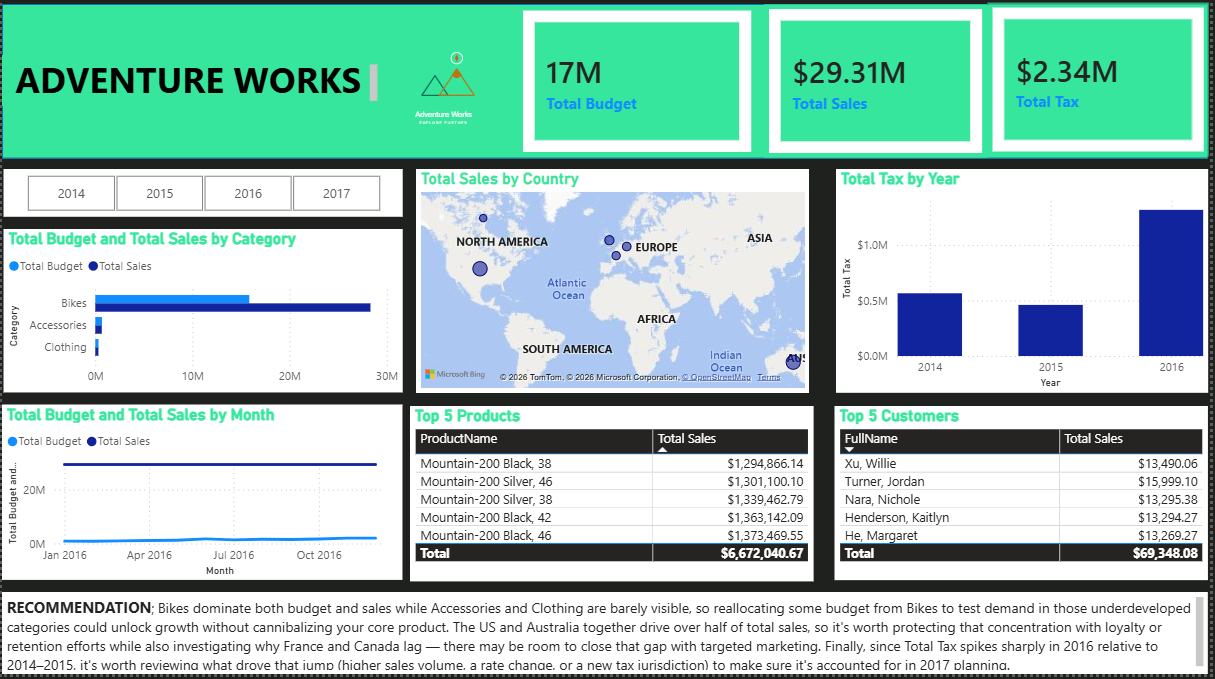

What the dashboard file says about the page in this screenshot:
{"tool":"powerbi","page":{"name":"Page 1","canvas":[1280,720],"ordinal":0},"visuals":[{"type":"shape","box":[0,9.5,1278.9,163.8],"z":0},{"type":"cardVisual","fields":{"Data":["Budget.Total Budget"]},"box":[547.6,11.1,252.4,160.3],"z":1000},{"type":"cardVisual","fields":{"Data":["Sales.Total Sales"]},"box":[807.9,9.5,236.5,163.5],"z":2000},{"type":"slicer","fields":{"Values":["Calendar.Year"]},"box":[1.6,184.5,423.1,50.9],"z":3000},{"type":"cardVisual","fields":{"Data":["Sales.Total Tax"]},"box":[1044.4,7.9,234.9,163.5],"z":4000},{"type":"image","box":[389.7,25.4,157.5,147.9],"z":5000},{"type":"textbox","box":[0,63.5,403.2,54],"z":6000},{"type":"clusteredBarChart","fields":{"Y":["Budget.Total Budget","Sales.Total Sales"],"Category":["Product.Category"]},"box":[1.6,248.1,423.1,173.4],"z":7000},{"type":"lineChart","fields":{"Category":["Budget.Month"],"Y":["Budget.Total Budget","Sales.Total Sales"]},"box":[0,434.2,424.7,186.1],"z":8000},{"type":"tableEx","title":"Top 5 Products","fields":{"Values":["Product.ProductName","Sales.Total Sales"]},"box":[432.6,435.8,427.9,186.1],"z":9000},{"type":"tableEx","title":"Top 5 Customers","fields":{"Values":["Customer.FullName","Sales.Total Sales"]},"box":[882.8,435.8,396.1,184.5],"z":10000},{"type":"map","fields":{"Category":["Territories.Country"],"Size":["Sales.Total Sales"]},"box":[439,184.5,416.7,237],"z":11000},{"type":"textbox","box":[0,633.1,1278.9,87.5],"z":12000},{"type":"clusteredColumnChart","fields":{"Y":["Sales.Total Tax"],"Category":["Calendar.Year"]},"box":[884.4,184.5,394.5,237],"z":13000}]}

Visuals, with their boxes in screenshot pixels (x1, y1, x2, y2), scaled from the page's 1280x720 canvas onto the 1215x679 screenshot:
shape: <bbox>0, 9, 1214, 163</bbox>
cardVisual - Budget.Total Budget: <bbox>520, 10, 759, 162</bbox>
cardVisual - Sales.Total Sales: <bbox>767, 9, 991, 163</bbox>
slicer - Calendar.Year: <bbox>2, 174, 403, 222</bbox>
cardVisual - Sales.Total Tax: <bbox>991, 7, 1214, 162</bbox>
image: <bbox>370, 24, 519, 163</bbox>
textbox: <bbox>0, 60, 383, 111</bbox>
clusteredBarChart - Budget.Total Budget x Sales.Total Sales: <bbox>2, 234, 403, 397</bbox>
lineChart - Budget.Month x Budget.Total Budget: <bbox>0, 409, 403, 585</bbox>
"Top 5 Products" tableEx: <bbox>411, 411, 817, 586</bbox>
"Top 5 Customers" tableEx: <bbox>838, 411, 1214, 585</bbox>
map - Territories.Country x Sales.Total Sales: <bbox>417, 174, 812, 397</bbox>
textbox: <bbox>0, 597, 1214, 678</bbox>
clusteredColumnChart - Sales.Total Tax x Calendar.Year: <bbox>839, 174, 1214, 397</bbox>
